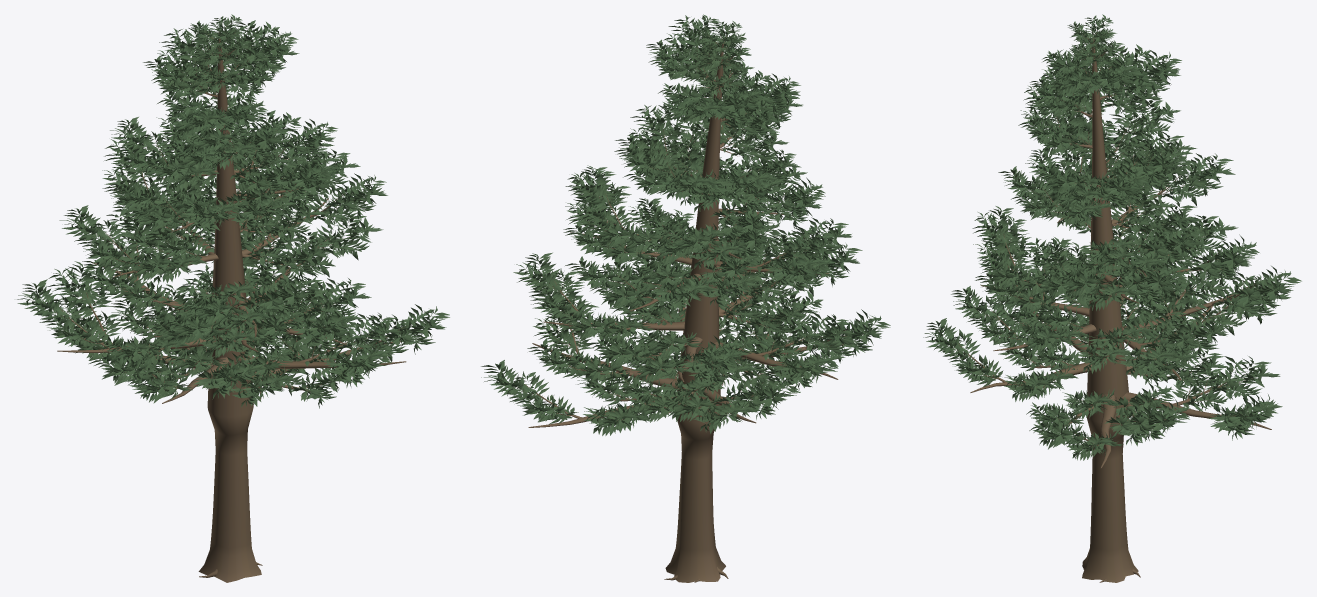
Rendered from corealm_pine_3.glb.
3 views of the same model, side by side, from view 1: azimuth 30°, elevation 25°; view 2: azimuth 150°, elevation 25°; view 3: azimuth 270°, elevation 25° (orthographic). The views are drawn at different scales.
Parts seen in each view (by area): view 1: corealm_pine_3; view 2: corealm_pine_3; view 3: corealm_pine_3.
Boxes of the visible parts, left/top/right/bottom form: corealm_pine_3: left=17, top=14, right=449, bottom=582; corealm_pine_3: left=481, top=14, right=890, bottom=582; corealm_pine_3: left=923, top=14, right=1301, bottom=582.
Bounding box in the file's own units: 5.24 × 7.69 × 4.95.
